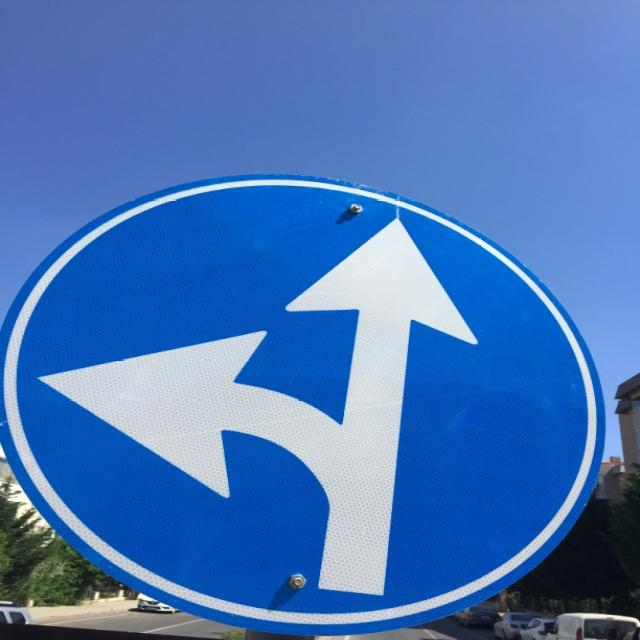ilerisol: (1, 173, 606, 636)
